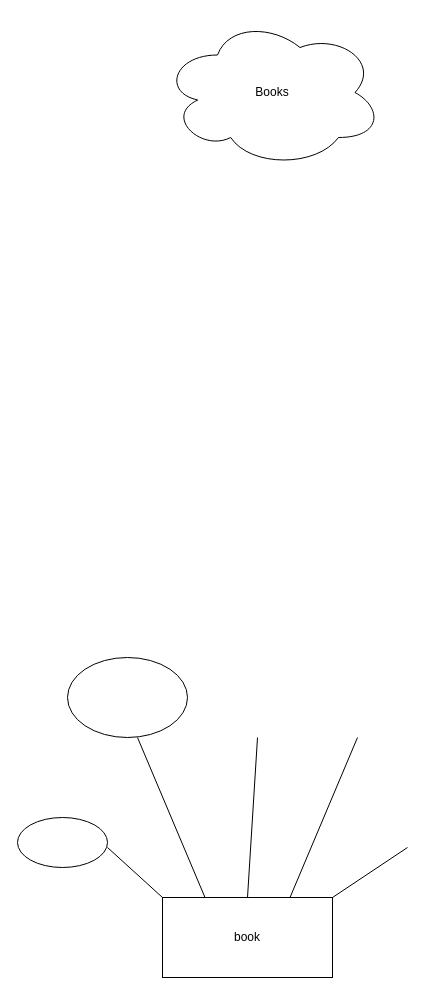
The diagram is 426 pixels wide and 995 high, and some of its shapes have lost their labels. Each missing label, with the centre of its shape:
"Author name" belongs at point 127,697.
"ID" belongs at point 62,842.
